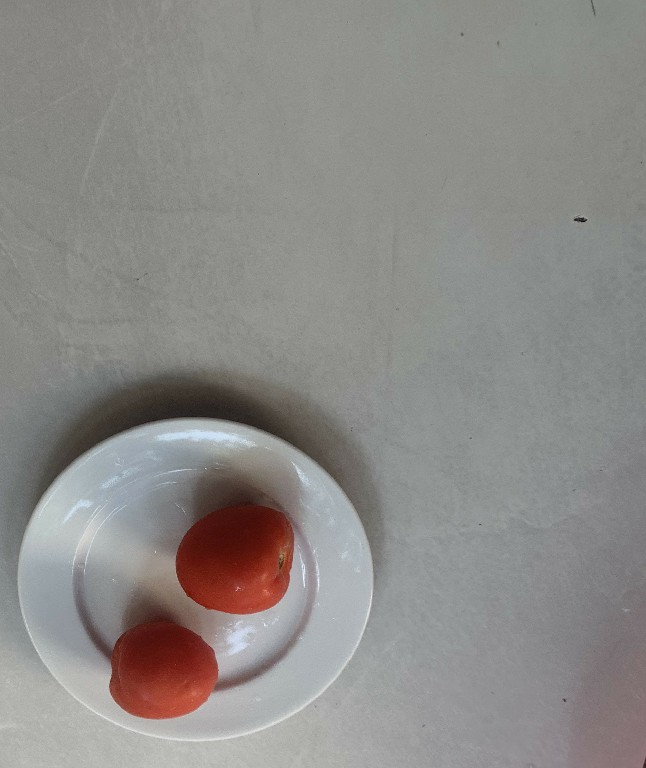OK: (173, 494, 303, 613), (112, 618, 224, 725)
